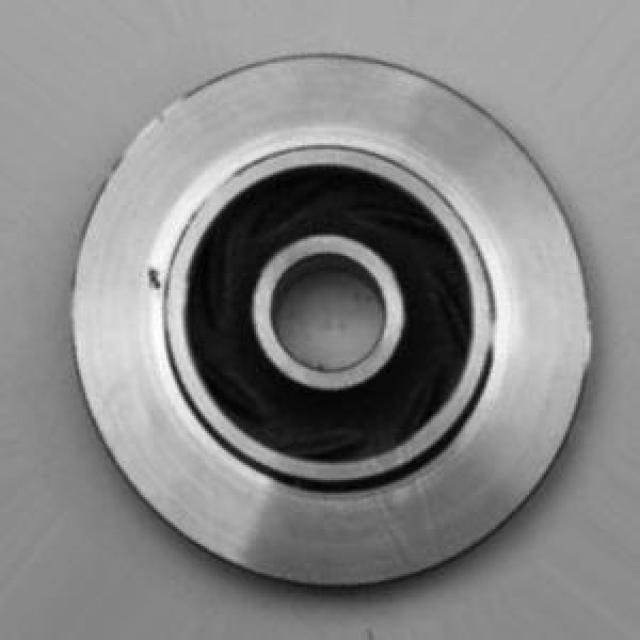Defect: (142, 260, 172, 296)
